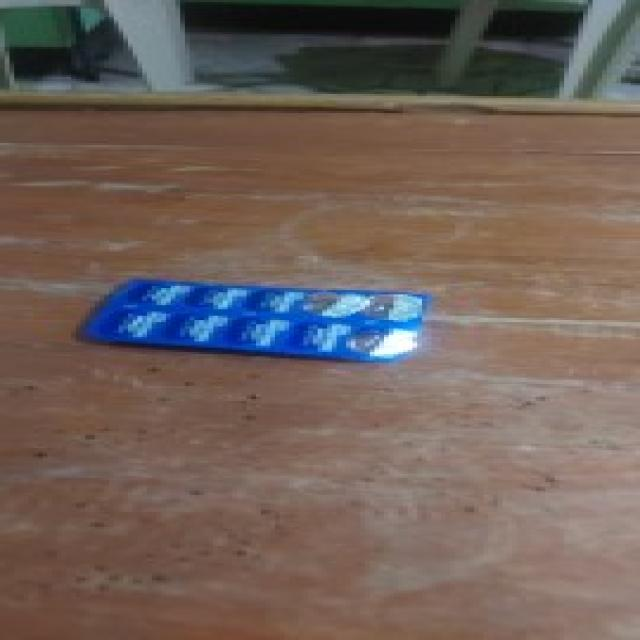Cacat: (68, 275, 424, 366)
Kemasan: (294, 289, 420, 324), (344, 326, 415, 359)
